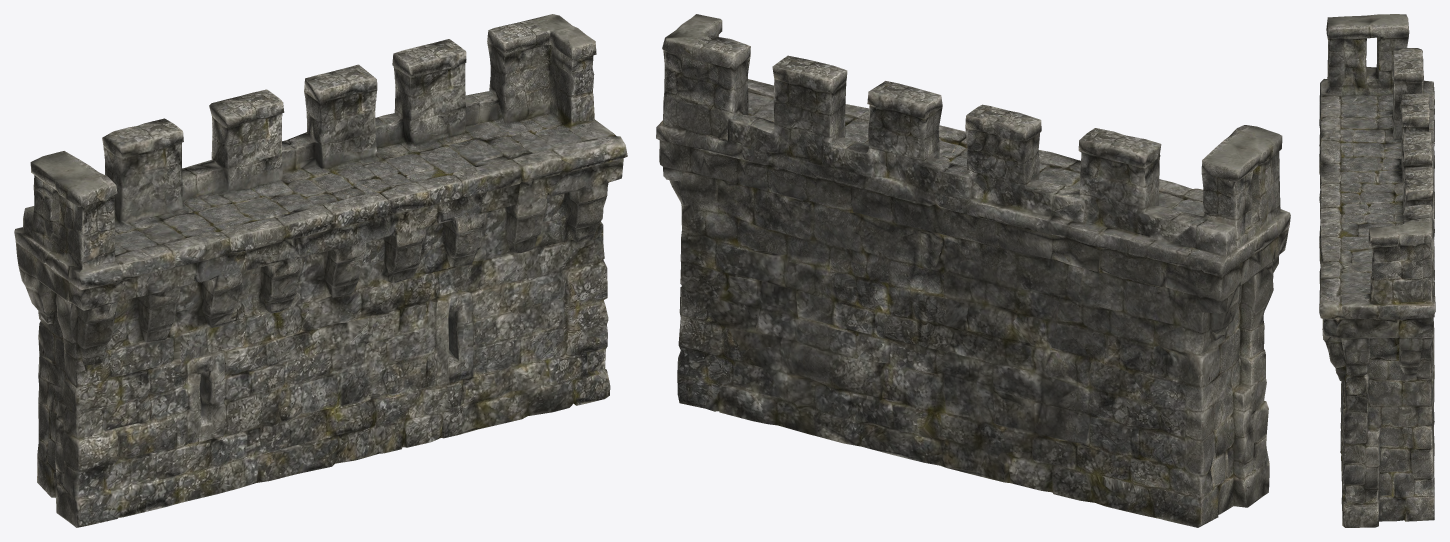
The model's file is castle_wall.glb.
3 views of the same model, side by side, from view 1: azimuth 30°, elevation 25°; view 2: azimuth 150°, elevation 25°; view 3: azimuth 270°, elevation 25° (orthographic). The views are drawn at different scales.
Parts seen in each view (by area): view 1: castle_wall; view 2: castle_wall; view 3: castle_wall.
Part boxes in pixels (bbox=[...]): castle_wall: bbox=[14, 14, 627, 527]; castle_wall: bbox=[656, 14, 1290, 527]; castle_wall: bbox=[1319, 14, 1435, 527].
Bounding box in the file's own units: 1.9 × 1.15 × 0.4126.
Materials: 1 (1 with a texture image).
